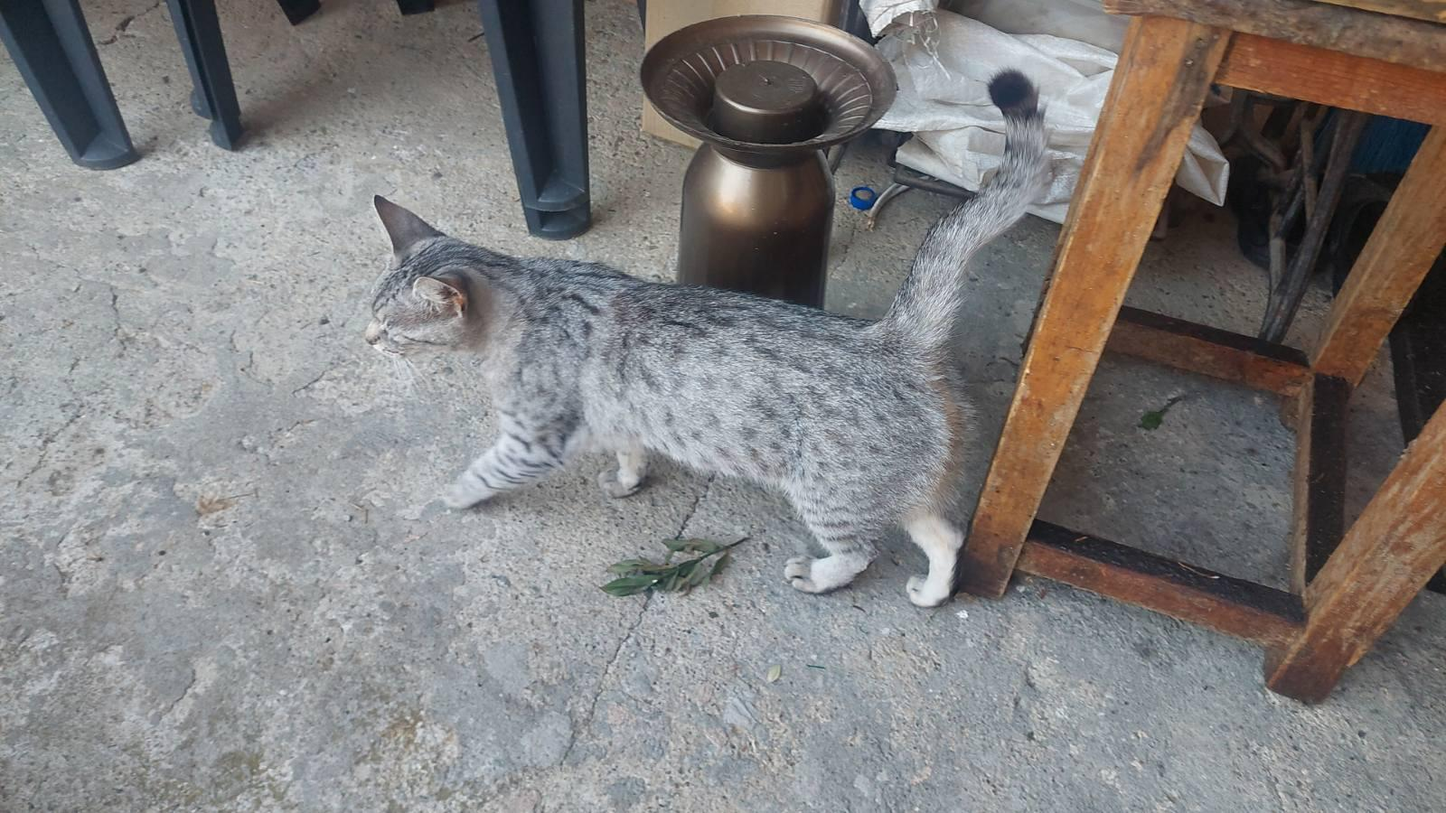macka: (364, 76, 1051, 609)
